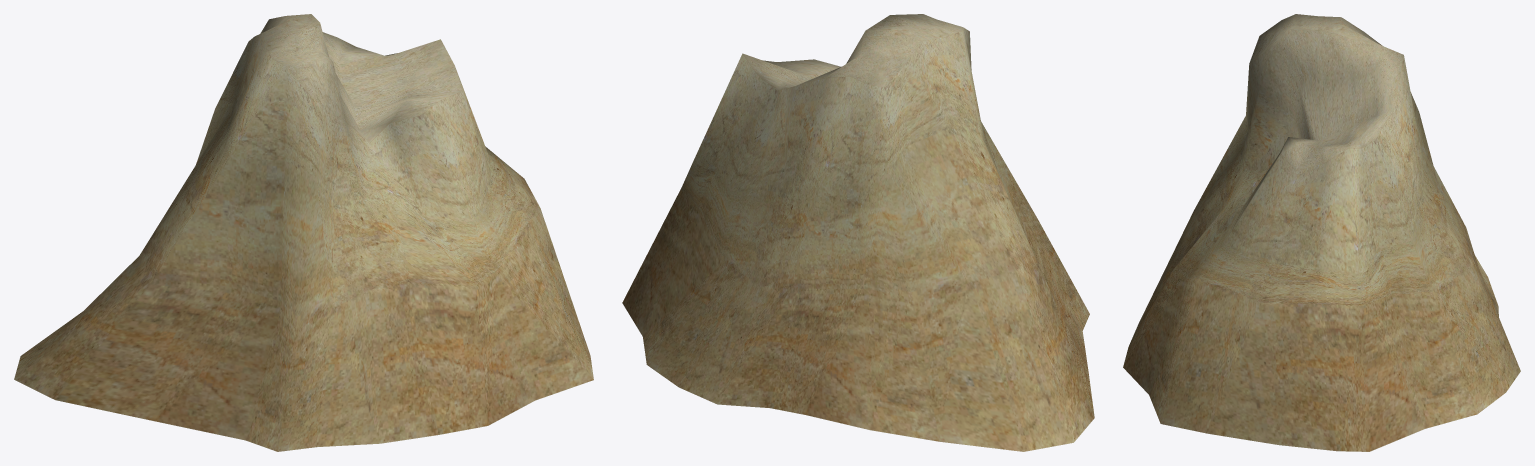
Rendered from rock_beach_spike_a1_l1.fbx.
The picture shows the model from 3 angles, left to right: view 1: azimuth 30°, elevation 25°; view 2: azimuth 150°, elevation 25°; view 3: azimuth 270°, elevation 25°; orthographic projection. The views are drawn at different scales.
Visible parts, largest first — view 1: mesh_node; view 2: mesh_node; view 3: mesh_node.
Part boxes in pixels (left/top/right/bottom): mesh_node: left=14, top=14, right=593, bottom=451; mesh_node: left=622, top=14, right=1094, bottom=451; mesh_node: left=1123, top=14, right=1520, bottom=451.
Bounding box in the file's own units: 7.56 × 4.92 × 5.72.
